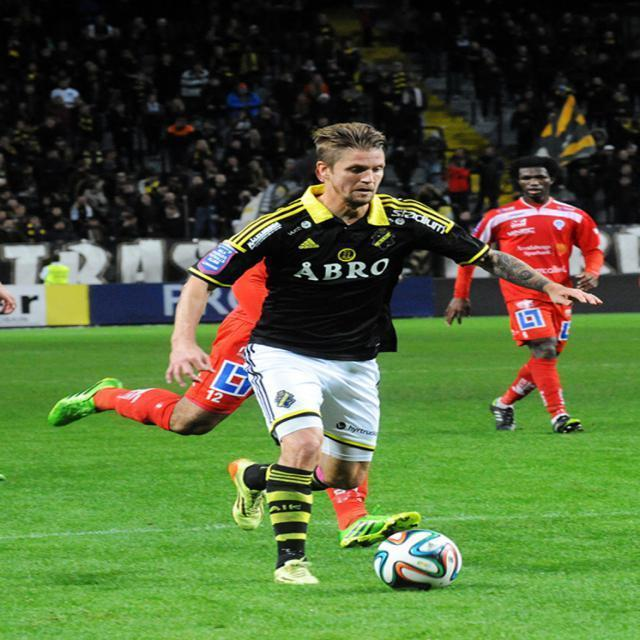ball: (372, 525, 467, 592)
